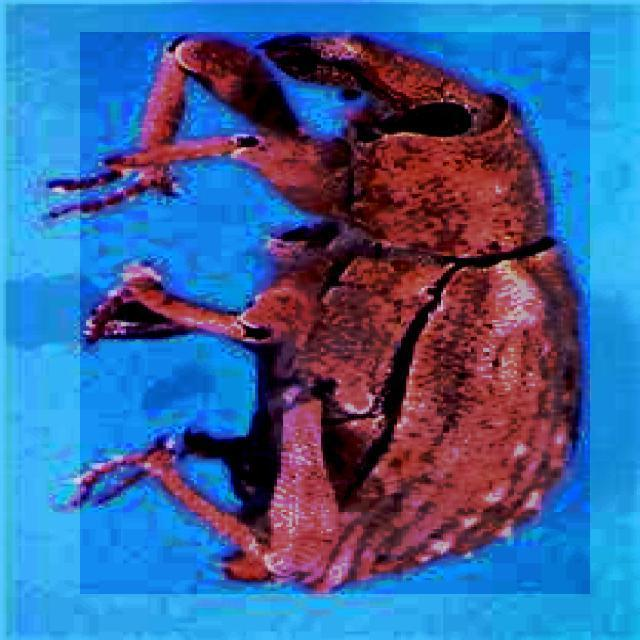rice-bug: (80, 32, 590, 594)
